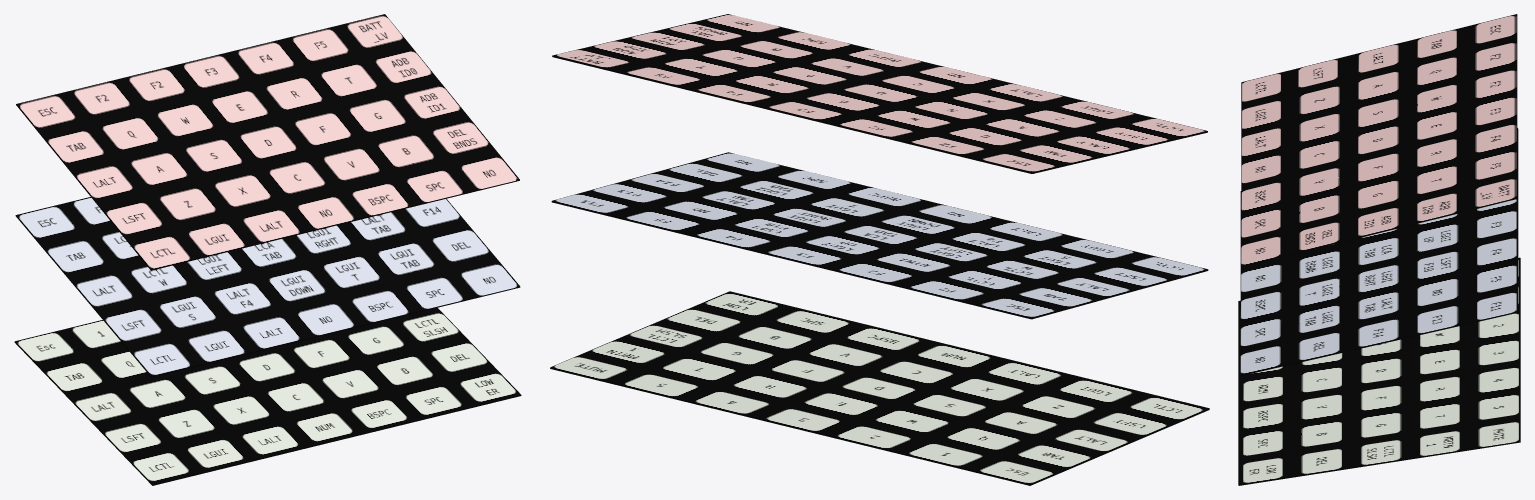
File: KeyLayer.glb
3 views of the same model, side by side, from view 1: azimuth 30°, elevation 25°; view 2: azimuth 150°, elevation 25°; view 3: azimuth 270°, elevation 25° (orthographic). The views are drawn at different scales.
Visible parts, largest first — view 1: Sketch.002, Sketch.001, Sketch.003; view 2: Sketch.001, Sketch.003, Sketch.002; view 3: Sketch.002, Sketch.001, Sketch.003.
Part boxes in pixels (x1,y1,x2,y2): Sketch.002: (16,14,519,270); Sketch.001: (14,308,521,485); Sketch.003: (15,197,520,377); Sketch.001: (550,291,1209,485); Sketch.003: (551,152,1208,319); Sketch.002: (552,14,1207,173); Sketch.002: (1241,14,1517,266); Sketch.001: (1238,257,1520,485); Sketch.003: (1240,128,1518,375).
Size of the model in its own units: 7.4 by 5.41 by 4.8.
Materials: 3 (3 with a texture image).
